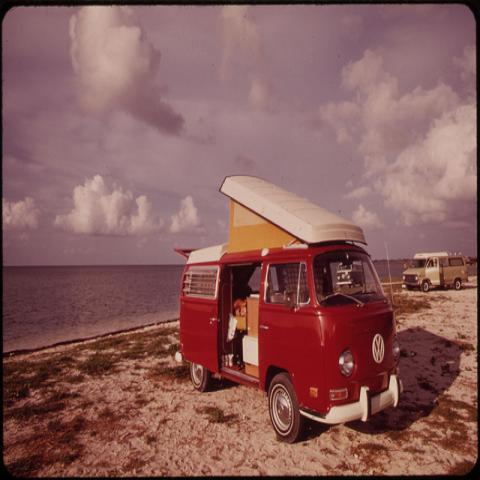truck: (172, 168, 410, 442), (403, 253, 469, 292)
